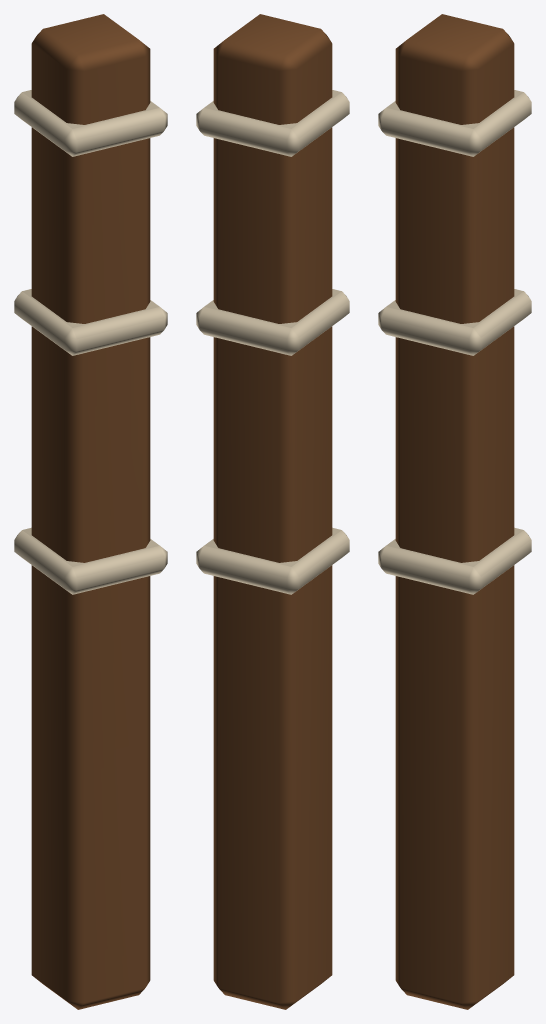
The model's file is bridge_post.glb.
The picture shows the model from 3 angles, left to right: view 1: azimuth 30°, elevation 25°; view 2: azimuth 150°, elevation 25°; view 3: azimuth 330°, elevation 25°; orthographic projection.
Visible parts, largest first — view 1: bridge_post; view 2: bridge_post; view 3: bridge_post.
Boxes of the visible parts, x1=… form: bridge_post: x1=14, y1=14, x2=167, y2=1009; bridge_post: x1=196, y1=14, x2=349, y2=1009; bridge_post: x1=378, y1=14, x2=531, y2=1009.
Bounding box in the file's own units: 0.27 × 2.4 × 0.27.
